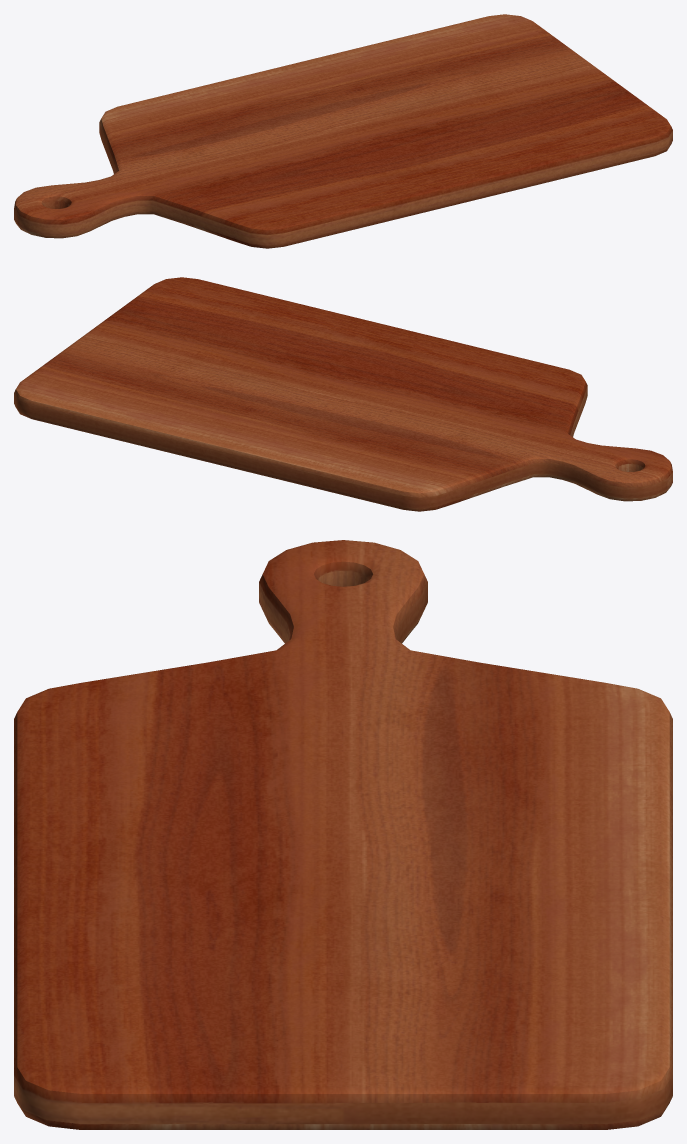
The model's file is cutting_board.fbx.
3 renders of one model, top to bottom at view 1: azimuth 30°, elevation 25°; view 2: azimuth 150°, elevation 25°; view 3: azimuth 270°, elevation 25°, orthographic. The views are drawn at different scales.
Parts seen in each view (by area): view 1: cutting_board; view 2: cutting_board; view 3: cutting_board.
Boxes of the visible parts, <box> form: cutting_board: <box>14,14,672,248</box>; cutting_board: <box>14,277,672,511</box>; cutting_board: <box>14,540,672,1129</box>.
Size of the model in its own units: 75.2 by 2.66 by 37.61.
